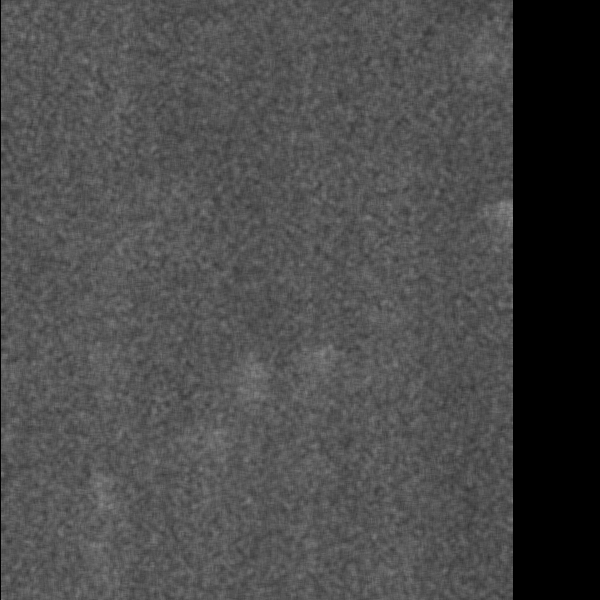spark: (225, 23, 316, 242), (281, 406, 342, 533), (180, 100, 205, 209), (171, 323, 207, 385), (198, 49, 226, 73)
